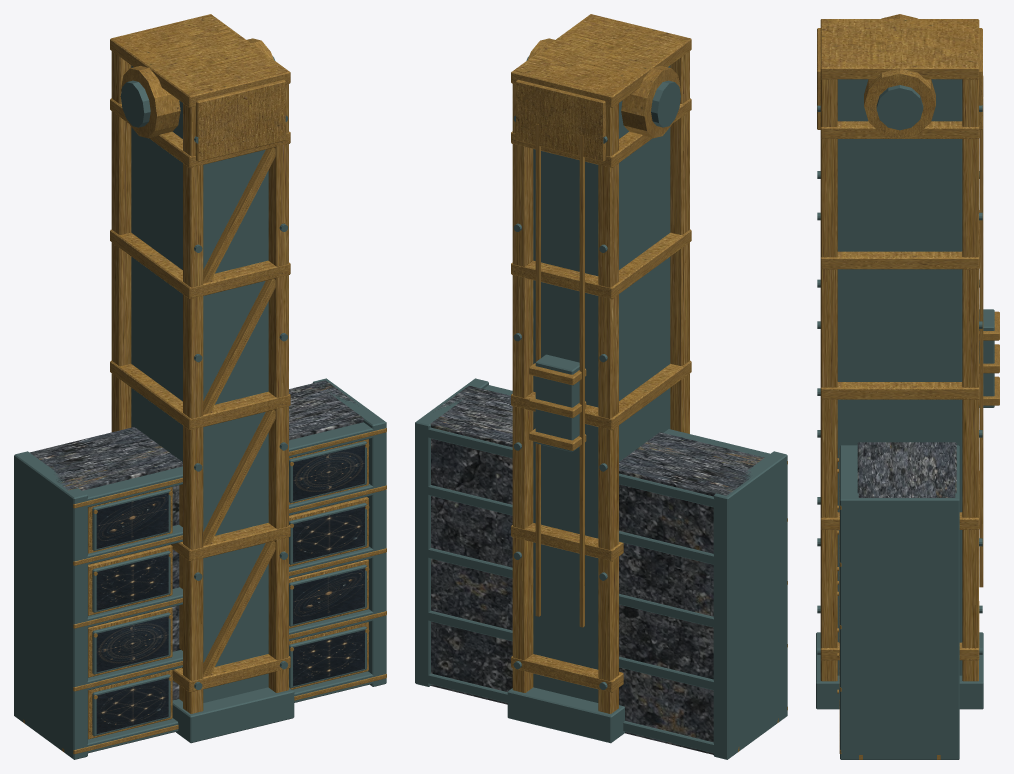
Rendered from districts.glb.
The picture shows the model from 3 angles, left to right: view 1: azimuth 30°, elevation 25°; view 2: azimuth 150°, elevation 25°; view 3: azimuth 270°, elevation 25°; orthographic projection.
Parts seen in each view (by area): view 1: StormButtress_District_Copper, StormButtress_District_Patina, ArchiveShelf_District_Patina, ArchiveShelf_Archive_Chart, ArchiveShelf_District_Copper, ArchiveShelf_District_Stone; view 2: StormButtress_District_Copper, ArchiveShelf_District_Stone, StormButtress_District_Patina, ArchiveShelf_District_Patina, StormCounterweight_District_Patina, StormCounterweight_District_Copper; view 3: StormButtress_District_Copper, StormButtress_District_Patina, ArchiveShelf_District_Patina, ArchiveShelf_District_Stone, StormCounterweight_District_Patina, StormCounterweight_District_Copper, ArchiveShelf_District_Copper.
Boxes of the visible parts, left/top/right/bottom form: StormButtress_District_Copper: left=110, top=14, right=290, bottom=713; StormButtress_District_Patina: left=120, top=56, right=294, bottom=743; ArchiveShelf_District_Patina: left=14, top=378, right=386, bottom=759; ArchiveShelf_Archive_Chart: left=96, top=445, right=364, bottom=733; ArchiveShelf_District_Copper: left=73, top=428, right=386, bottom=754; ArchiveShelf_District_Stone: left=29, top=380, right=363, bottom=700; StormButtress_District_Copper: left=511, top=14, right=691, bottom=713; ArchiveShelf_District_Stone: left=430, top=385, right=764, bottom=754; StormButtress_District_Patina: left=507, top=56, right=680, bottom=743; ArchiveShelf_District_Patina: left=415, top=378, right=787, bottom=759; StormCounterweight_District_Patina: left=535, top=354, right=579, bottom=451; StormCounterweight_District_Copper: left=529, top=363, right=586, bottom=450; StormButtress_District_Copper: left=817, top=14, right=983, bottom=681; StormButtress_District_Patina: left=816, top=79, right=983, bottom=709; ArchiveShelf_District_Patina: left=840, top=445, right=959, bottom=759; ArchiveShelf_District_Stone: left=857, top=442, right=956, bottom=497; StormCounterweight_District_Patina: left=979, top=309, right=994, bottom=407; StormCounterweight_District_Copper: left=979, top=311, right=999, bottom=405; ArchiveShelf_District_Copper: left=837, top=448, right=841, bottom=753.
Bounding box in the file's own units: 6 × 11.81 × 3.07.
4 materials, 3 textured.
